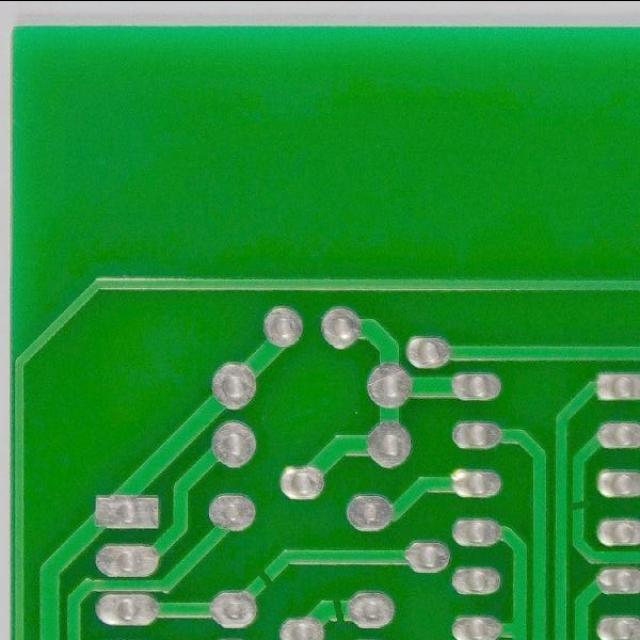Open_Circuit: (324, 584, 352, 634), (250, 561, 280, 592), (568, 492, 594, 519)
